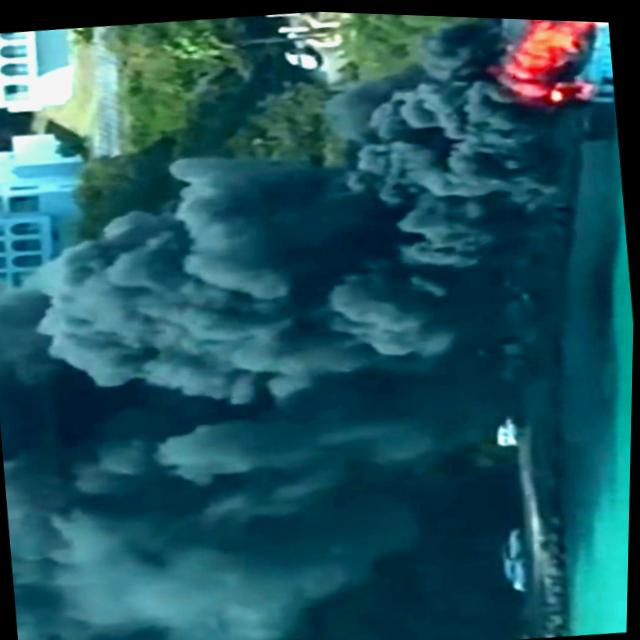smoke: (0, 148, 505, 527), (0, 276, 369, 640), (342, 49, 553, 201)
